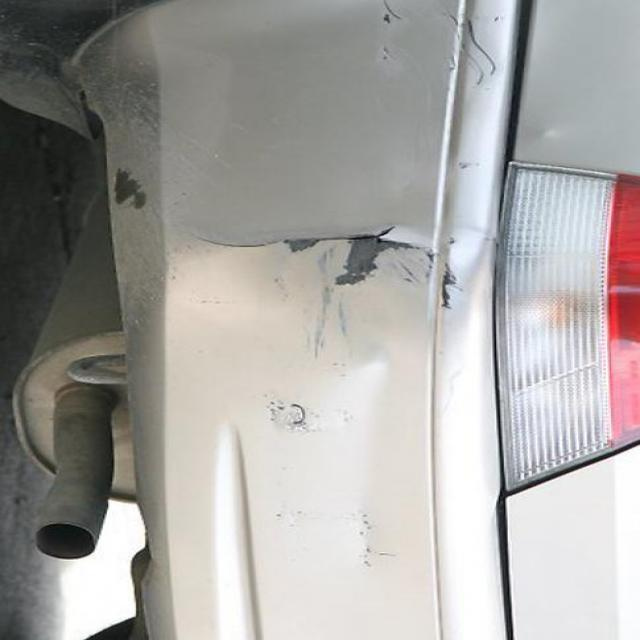scratch: (201, 218, 485, 331), (104, 150, 172, 224)
